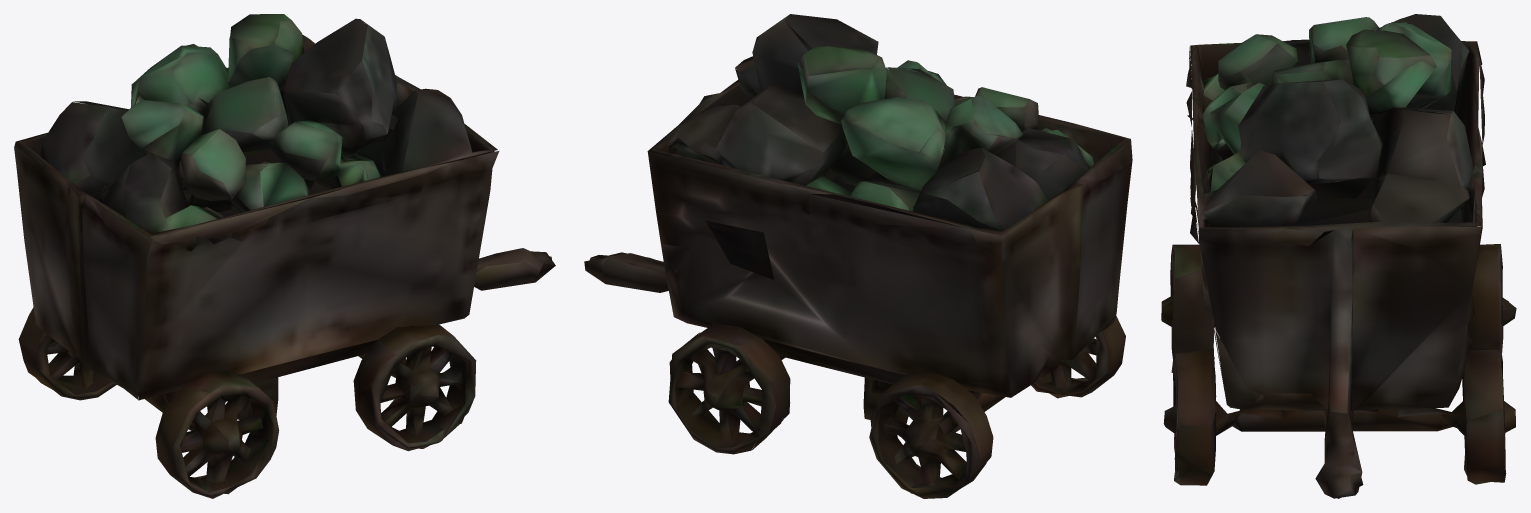
The model's file is vagoneta.movil.glb.
The picture shows the model from 3 angles, left to right: view 1: azimuth 30°, elevation 25°; view 2: azimuth 150°, elevation 25°; view 3: azimuth 270°, elevation 25°; orthographic projection. The views are drawn at different scales.
Parts seen in each view (by area): view 1: geometry_0; view 2: geometry_0; view 3: geometry_0.
Boxes of the visible parts, x1=… form: geometry_0: x1=14, y1=14, x2=555, y2=498; geometry_0: x1=584, y1=14, x2=1132, y2=498; geometry_0: x1=1161, y1=14, x2=1516, y2=498.
Bounding box in the file's own units: 1.69 × 1.25 × 0.9949.
Materials: 1 (1 with a texture image).
